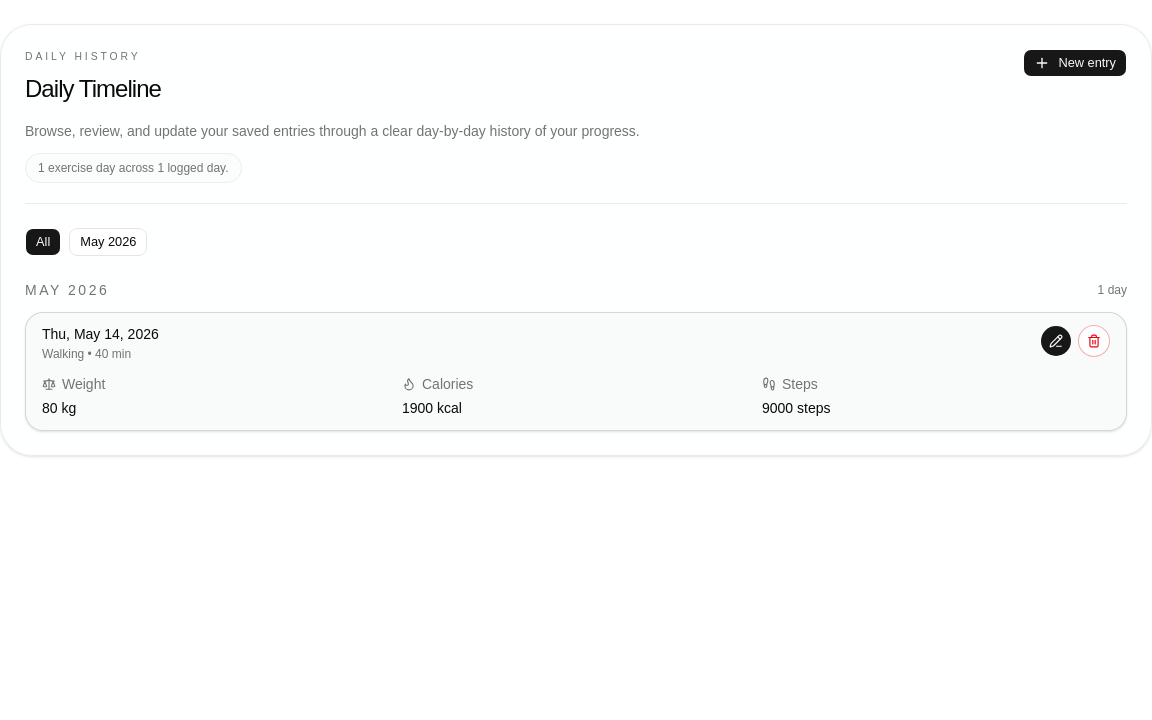
DailyHistoryPage › closes the drawer after a successful save
Click the button named "edit". click: (1056, 341)
box: [1040, 325, 1072, 357]
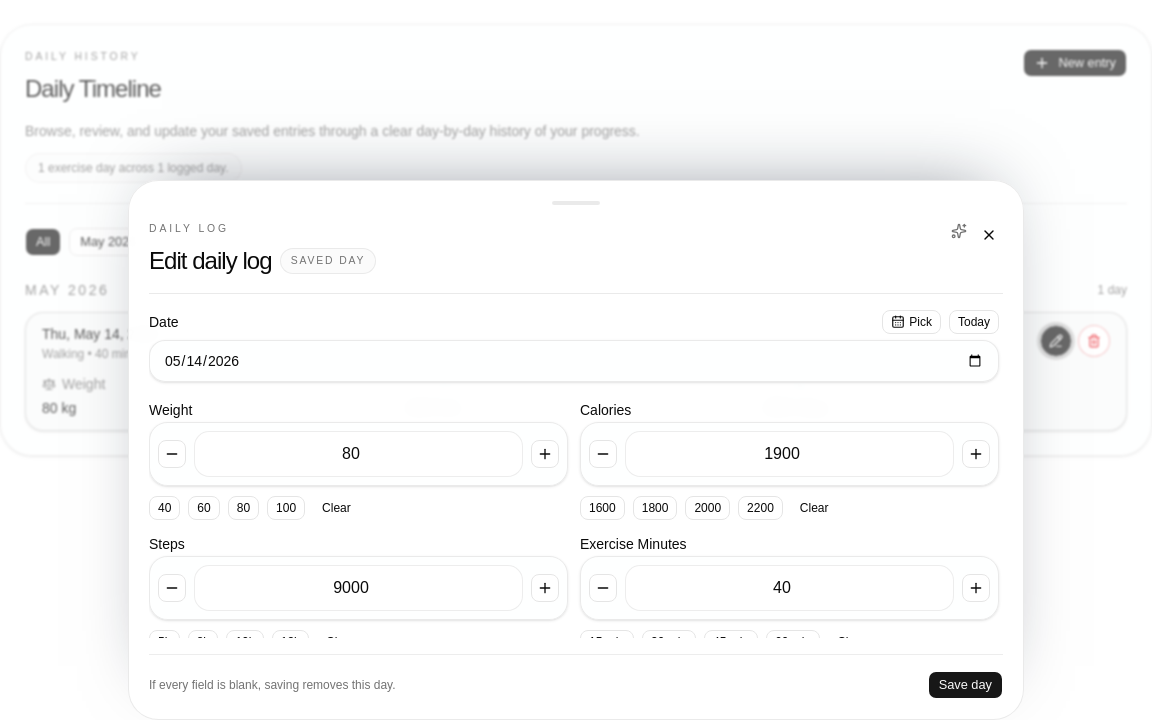
Click the button "Save day". click: (965, 685)
box: [928, 671, 1003, 699]
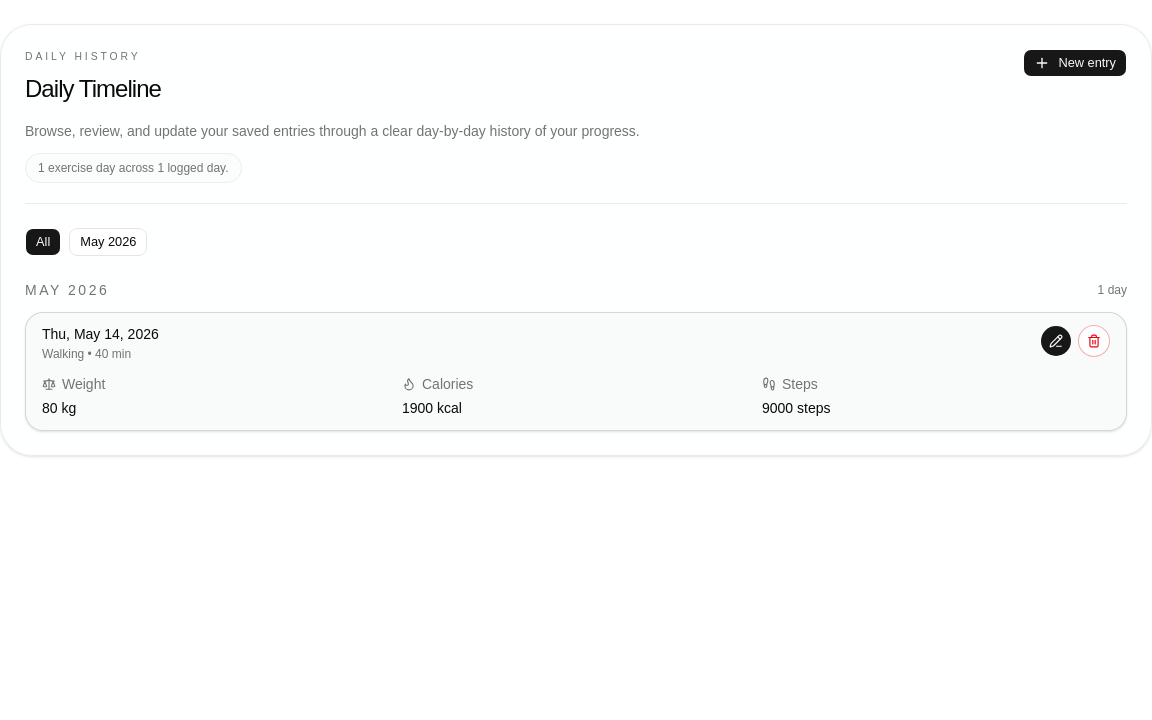
Result: the text "Daily log" is gone
